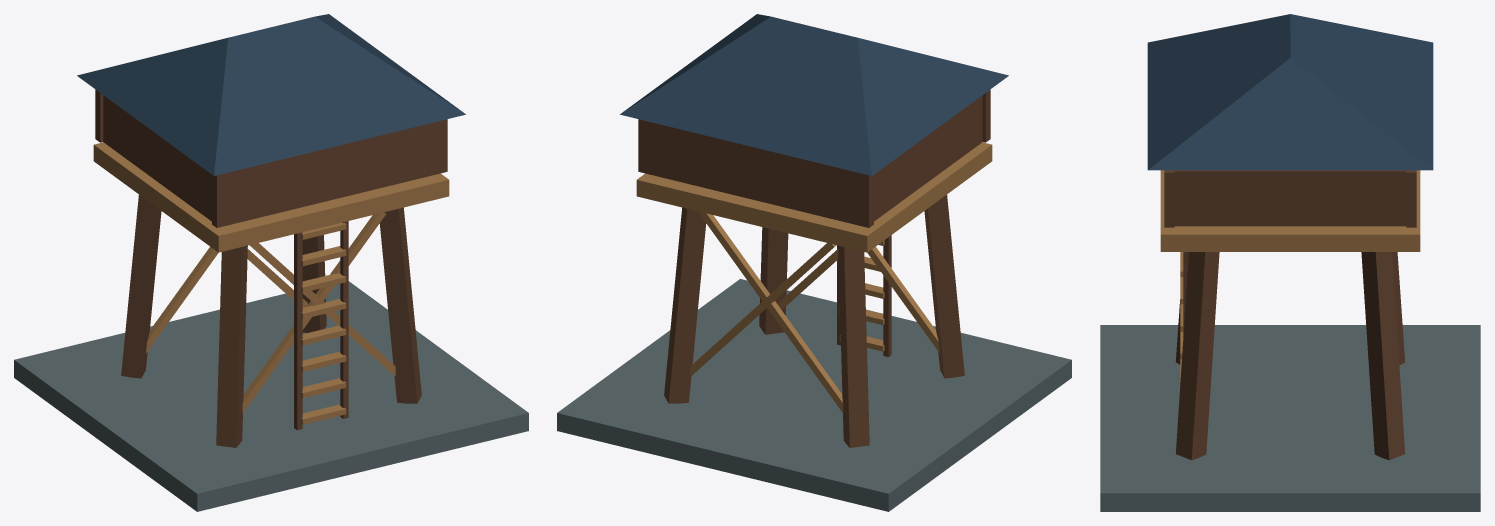
Rendered from PirateCove_Watchtower_Standard.glb.
3 views of the same model, side by side, from view 1: azimuth 30°, elevation 25°; view 2: azimuth 150°, elevation 25°; view 3: azimuth 270°, elevation 25° (orthographic). The views are drawn at different scales.
Visible parts, largest first — view 1: PirateCove_Watchtower_Standard; view 2: PirateCove_Watchtower_Standard; view 3: PirateCove_Watchtower_Standard.
Part boxes in pixels (bbox=[...]): PirateCove_Watchtower_Standard: bbox=[14, 14, 528, 511]; PirateCove_Watchtower_Standard: bbox=[557, 14, 1071, 511]; PirateCove_Watchtower_Standard: bbox=[1100, 14, 1480, 511].
Bounding box in the file's own units: 4.6 × 5 × 4.4.
